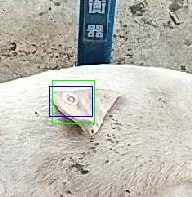text: (52, 80, 94, 123)
